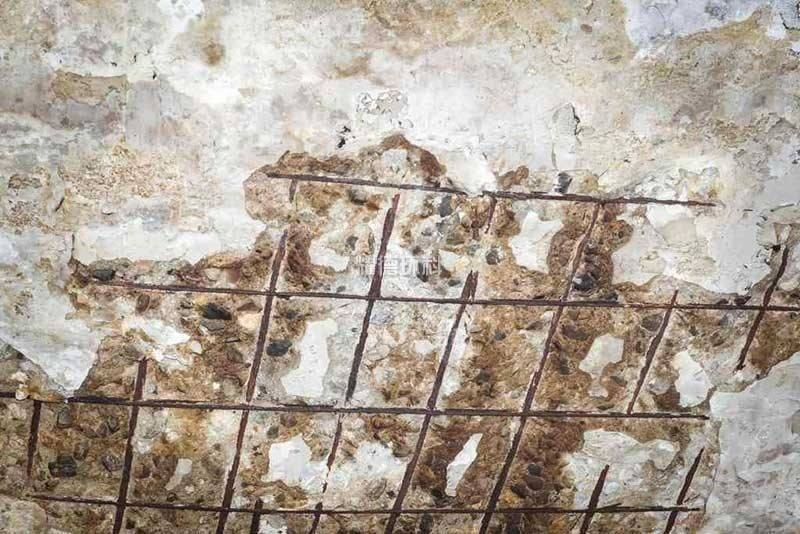Exposed reinforcement: (479, 201, 600, 534), (309, 192, 401, 534), (385, 268, 479, 534), (77, 279, 800, 313), (1, 390, 712, 422), (215, 227, 289, 534), (266, 172, 717, 208), (23, 492, 704, 515), (734, 245, 790, 372), (626, 287, 680, 417), (113, 356, 148, 534), (664, 445, 706, 534), (580, 462, 609, 534), (25, 399, 42, 477), (471, 196, 498, 241), (250, 498, 264, 534), (288, 178, 297, 204)
Spalling: (1, 132, 800, 534)
